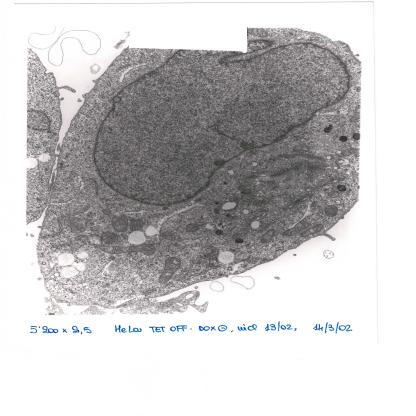mitochondria: (91, 244, 156, 256), (158, 257, 181, 283), (282, 220, 309, 236), (300, 223, 324, 236), (110, 214, 127, 232), (260, 229, 277, 244), (209, 248, 220, 269), (98, 232, 116, 244), (128, 219, 144, 231), (324, 204, 338, 217), (161, 231, 177, 241), (232, 229, 248, 238), (183, 223, 199, 232), (294, 144, 310, 152), (240, 194, 255, 202), (328, 190, 340, 198), (252, 199, 262, 207), (101, 208, 112, 215)
